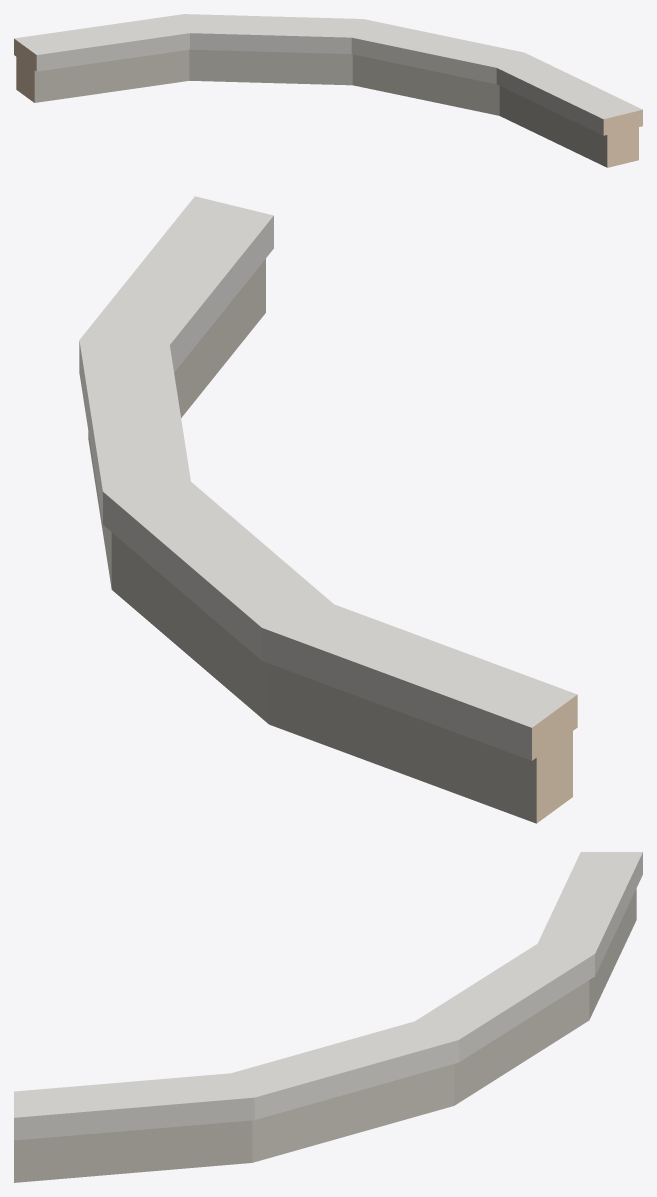
The model's file is Tiered_Retaining_Wall_Flat_Curve_3x3_Top.glb.
3 views of the same model, one above another, from view 1: azimuth 30°, elevation 25°; view 2: azimuth 150°, elevation 25°; view 3: azimuth 270°, elevation 25° (orthographic). The views are drawn at different scales.
Visible parts, largest first — view 1: Tiered_Retaining_Wall_Flat_Curve_3x3_Top; view 2: Tiered_Retaining_Wall_Flat_Curve_3x3_Top; view 3: Tiered_Retaining_Wall_Flat_Curve_3x3_Top.
Boxes of the visible parts, x1,y1,x2,y2 form: Tiered_Retaining_Wall_Flat_Curve_3x3_Top: (14,14,642,167); Tiered_Retaining_Wall_Flat_Curve_3x3_Top: (79,196,577,823); Tiered_Retaining_Wall_Flat_Curve_3x3_Top: (14,852,642,1182).
Bounding box in the file's own units: 316 × 37.5 × 316.
